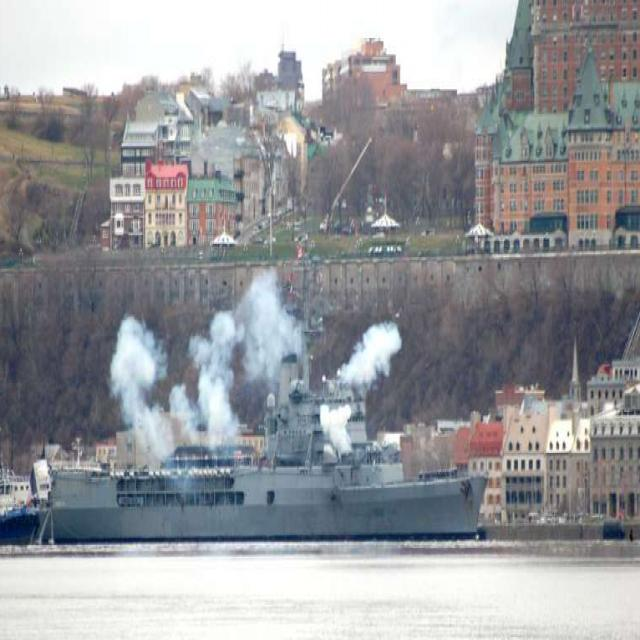Portanaves: (20, 346, 501, 547)
